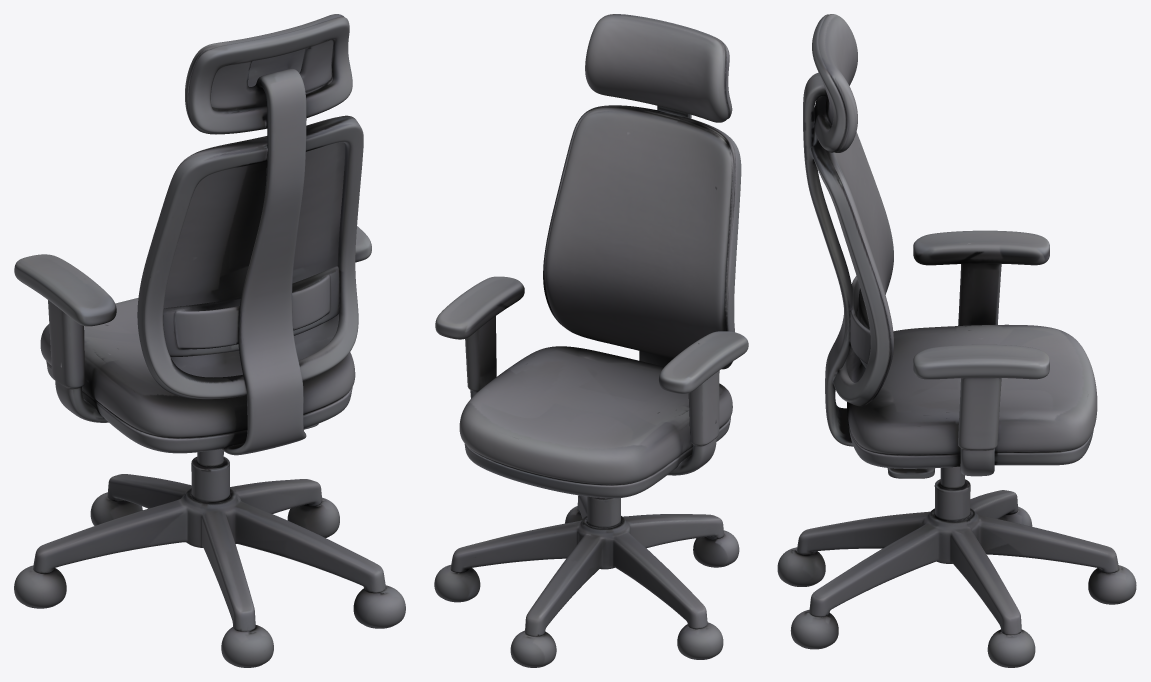
Rendered from SM_F_Chair_03.glb.
3 renders of one model, left to right at view 1: azimuth 30°, elevation 25°; view 2: azimuth 150°, elevation 25°; view 3: azimuth 270°, elevation 25°, orthographic. The views are drawn at different scales.
Visible parts, largest first — view 1: SM_F_Chair_03; view 2: SM_F_Chair_03; view 3: SM_F_Chair_03.
Part boxes in pixels (bbox=[...]): SM_F_Chair_03: bbox=[14, 14, 405, 667]; SM_F_Chair_03: bbox=[434, 14, 748, 667]; SM_F_Chair_03: bbox=[777, 14, 1136, 667].
Bounding box in the file's own units: 0.5591 × 1.01 × 0.591.
Materials: 1 (1 with a texture image).
